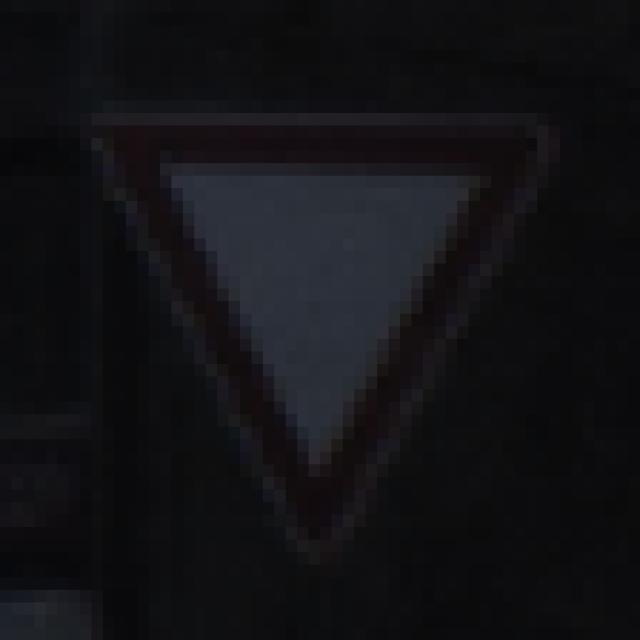Give Way: (58, 64, 584, 578)
